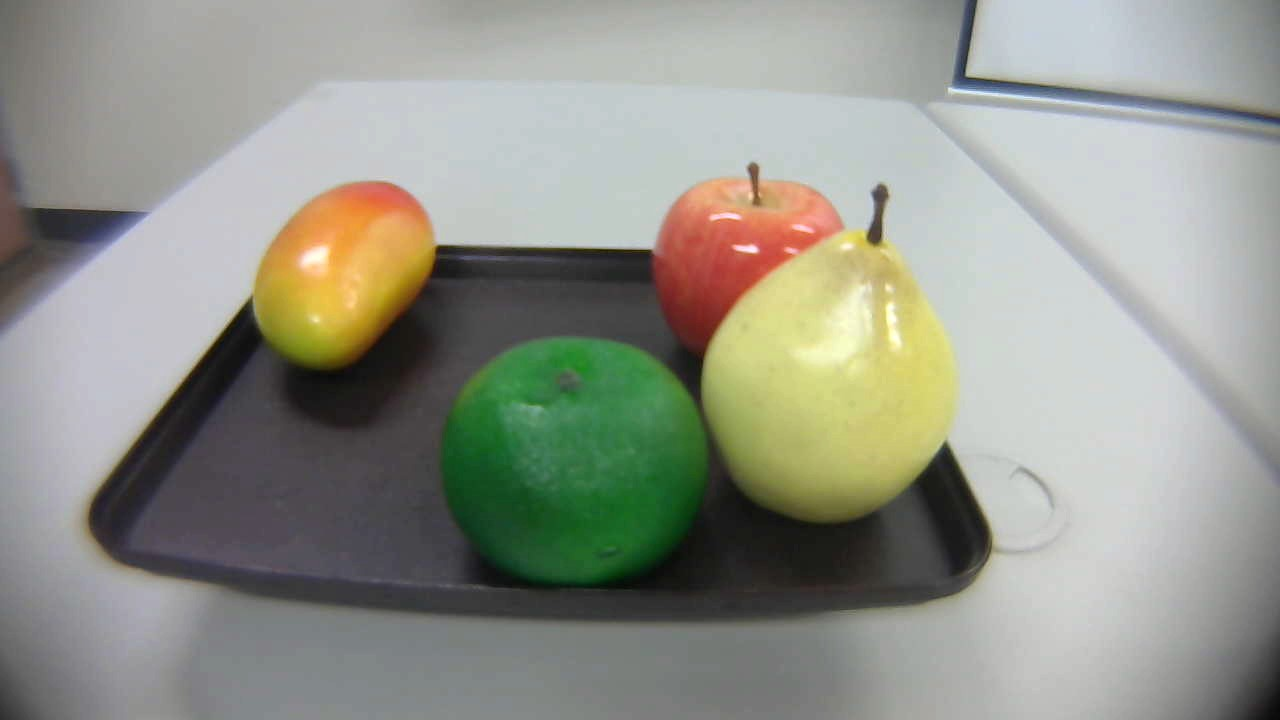green orange: (432, 324, 717, 588)
red apple: (650, 163, 855, 359)
red mango: (243, 173, 448, 388)
western pear: (700, 186, 955, 523)
